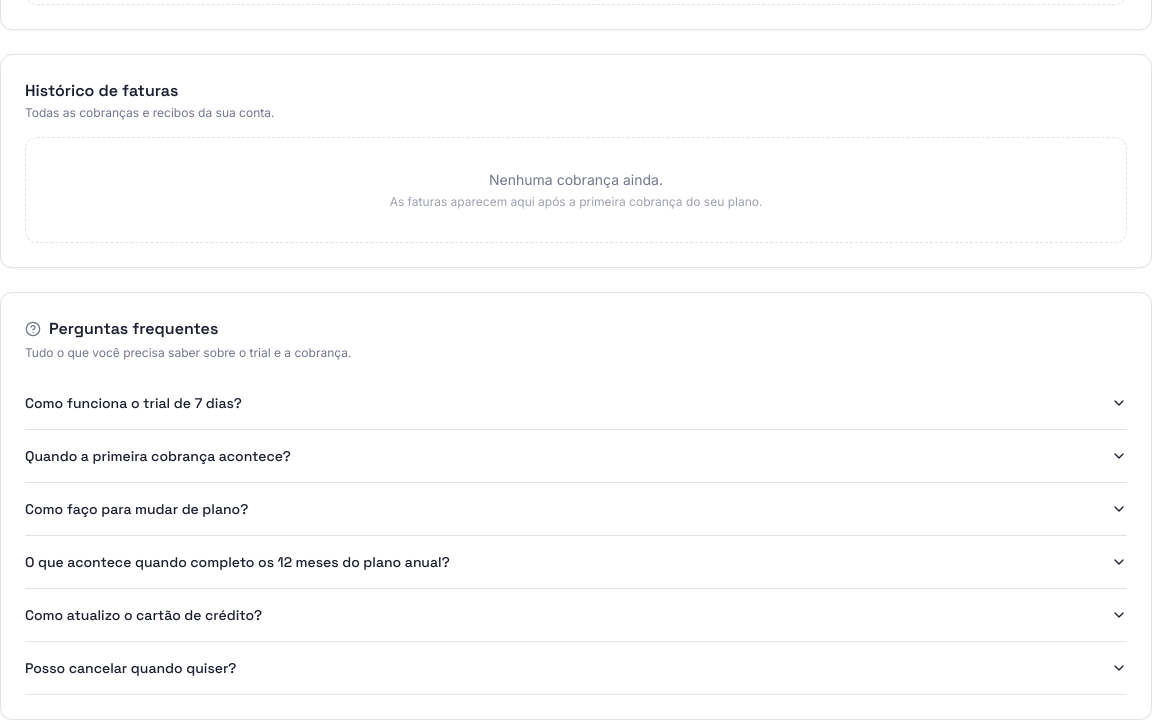
Test: P55 — FAQ de cobrança e troca › explica liberação após confirmação e redução nas próximas cobranças
(page scrolled)
Click the button "Como faço para mudar de plano?".
click(137, 509)  # box 25,483 -> 1127,535
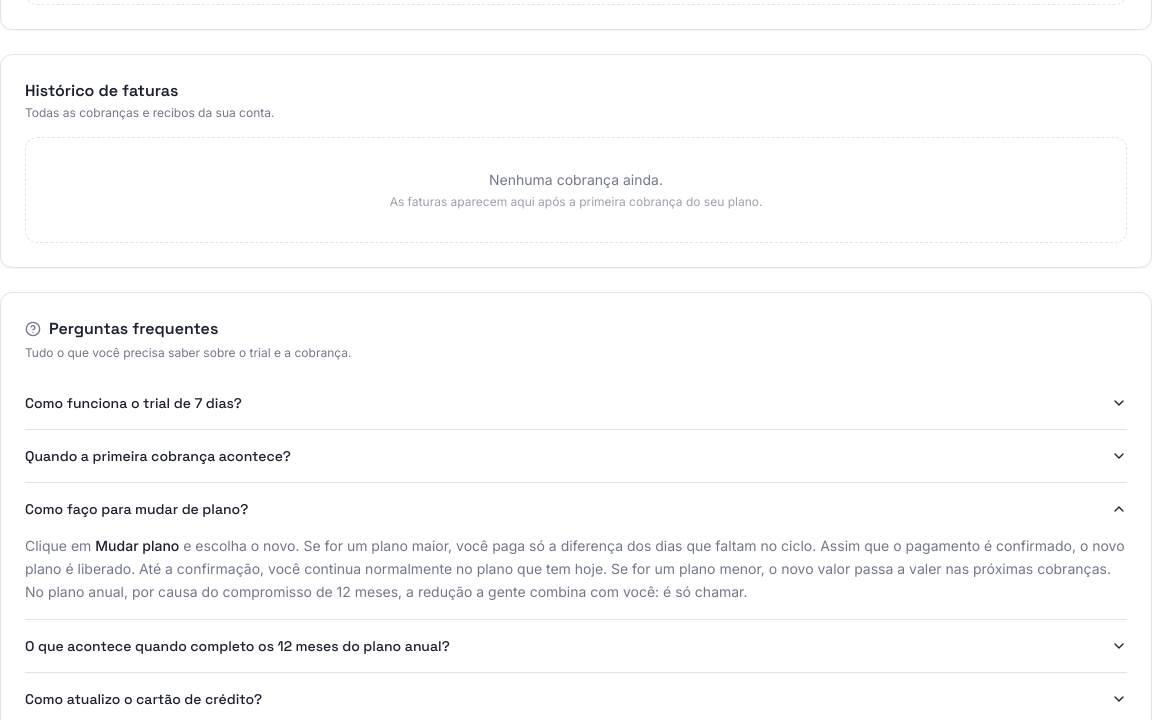
Now the element that starts with "Clique em" shows "Assim que o pagamento é confirmado, o novo plano é liberado", box 25,537 -> 1125,600
Now the element that starts with "Clique em" shows "Até a confirmação, você continua normalmente no plano que tem hoje", box 25,537 -> 1125,600
Now the element that starts with "Clique em" shows "Se for um plano menor, o novo valor passa a valer nas próximas cobranças", box 25,537 -> 1125,600
